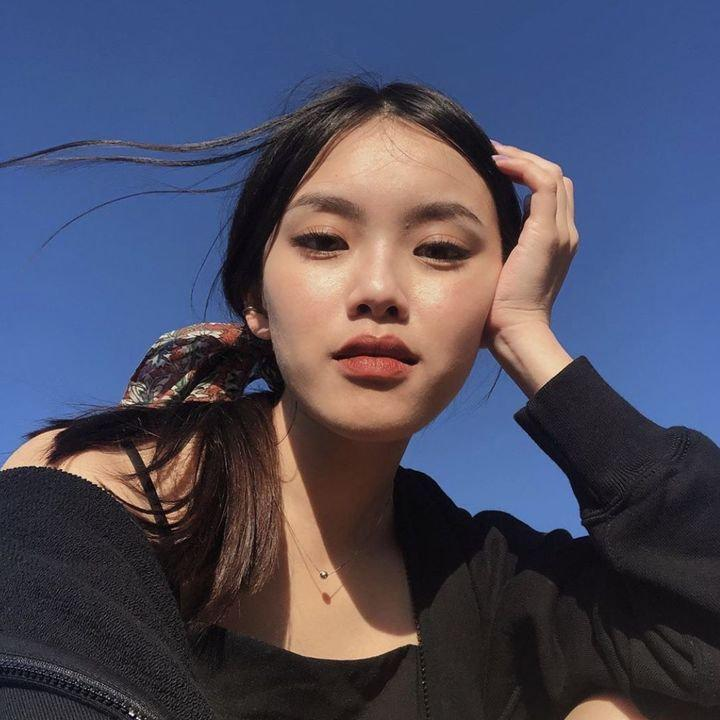Sober: (294, 154, 490, 418)
